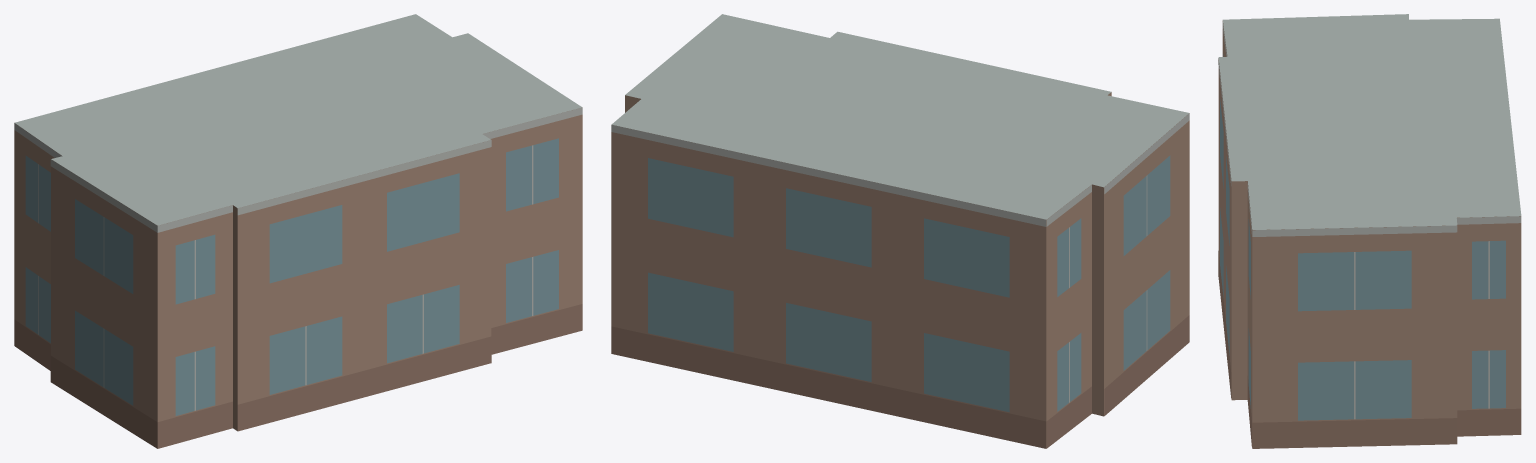
Rendered from survey-upis-32636782.glb.
3 renders of one model, left to right at view 1: azimuth 30°, elevation 25°; view 2: azimuth 150°, elevation 25°; view 3: azimuth 270°, elevation 25°, orthographic. The views are drawn at different scales.
Parts seen in each view (by area): view 1: survey-upis-32636782.tmp; view 2: survey-upis-32636782.tmp; view 3: survey-upis-32636782.tmp.
Boxes of the visible parts, x1,y1,x2,y2 form: survey-upis-32636782.tmp: (14,14,582,448); survey-upis-32636782.tmp: (611,14,1189,448); survey-upis-32636782.tmp: (1218,14,1521,448).
Size of the model in its own units: 16.11 by 7.6 by 9.55.
